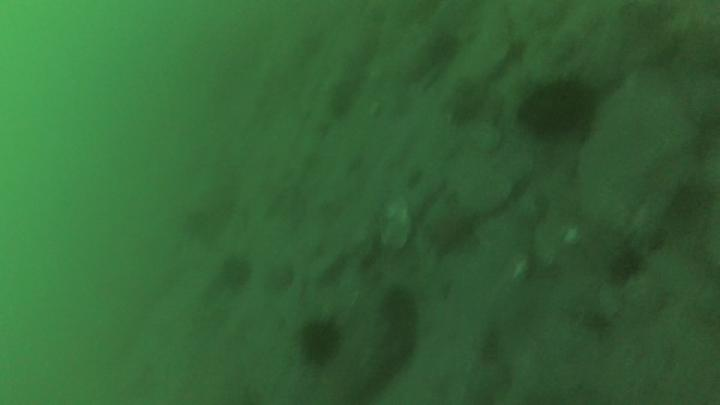echinus: (520, 82, 591, 138), (297, 320, 338, 364), (377, 287, 418, 330), (327, 81, 357, 116), (424, 37, 459, 65), (610, 251, 639, 283), (224, 258, 250, 288)
